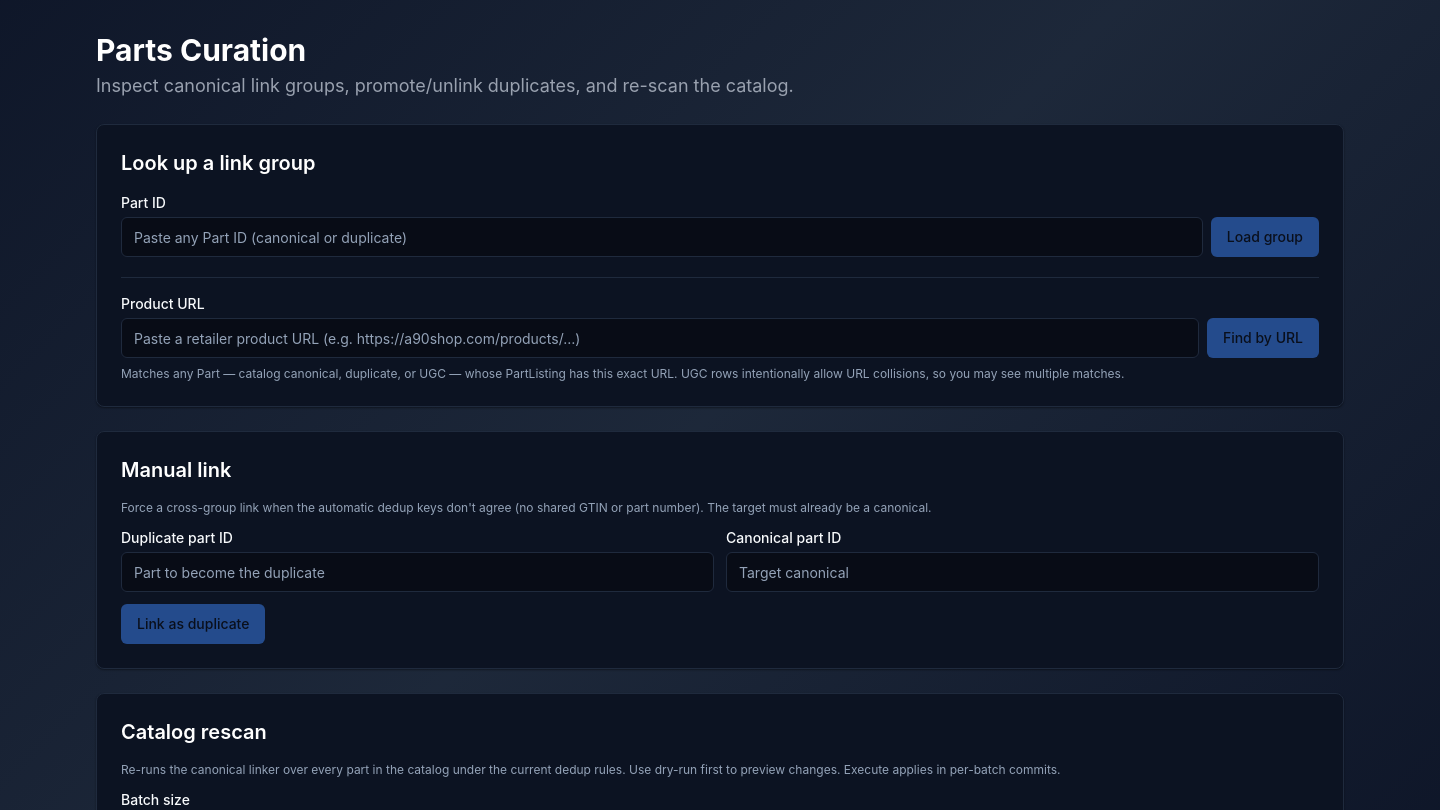
Scenario: PartsCuration page › loads a link group on lookup and renders members with Promote + Unlink
Type "aaaaaaaa-aaaa-7aaa-8aaa-aaaaaaaaaaaa" into the field with placeholder "Paste any Part ID (canonical or duplicate)" at coordinates (662, 237), box [121, 217, 1203, 257]
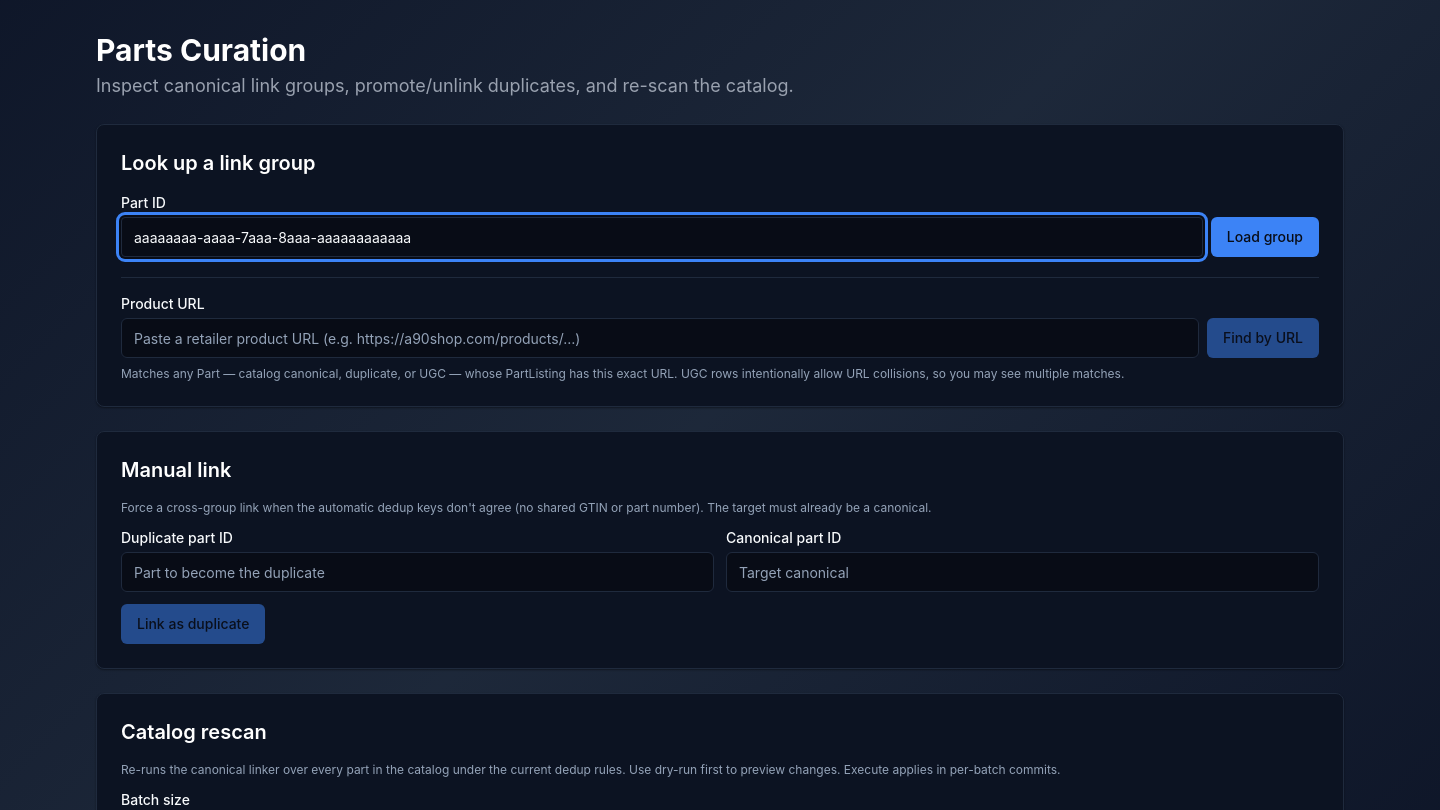
Click the button "Load group" at coordinates (1265, 237), box [1211, 217, 1319, 257]
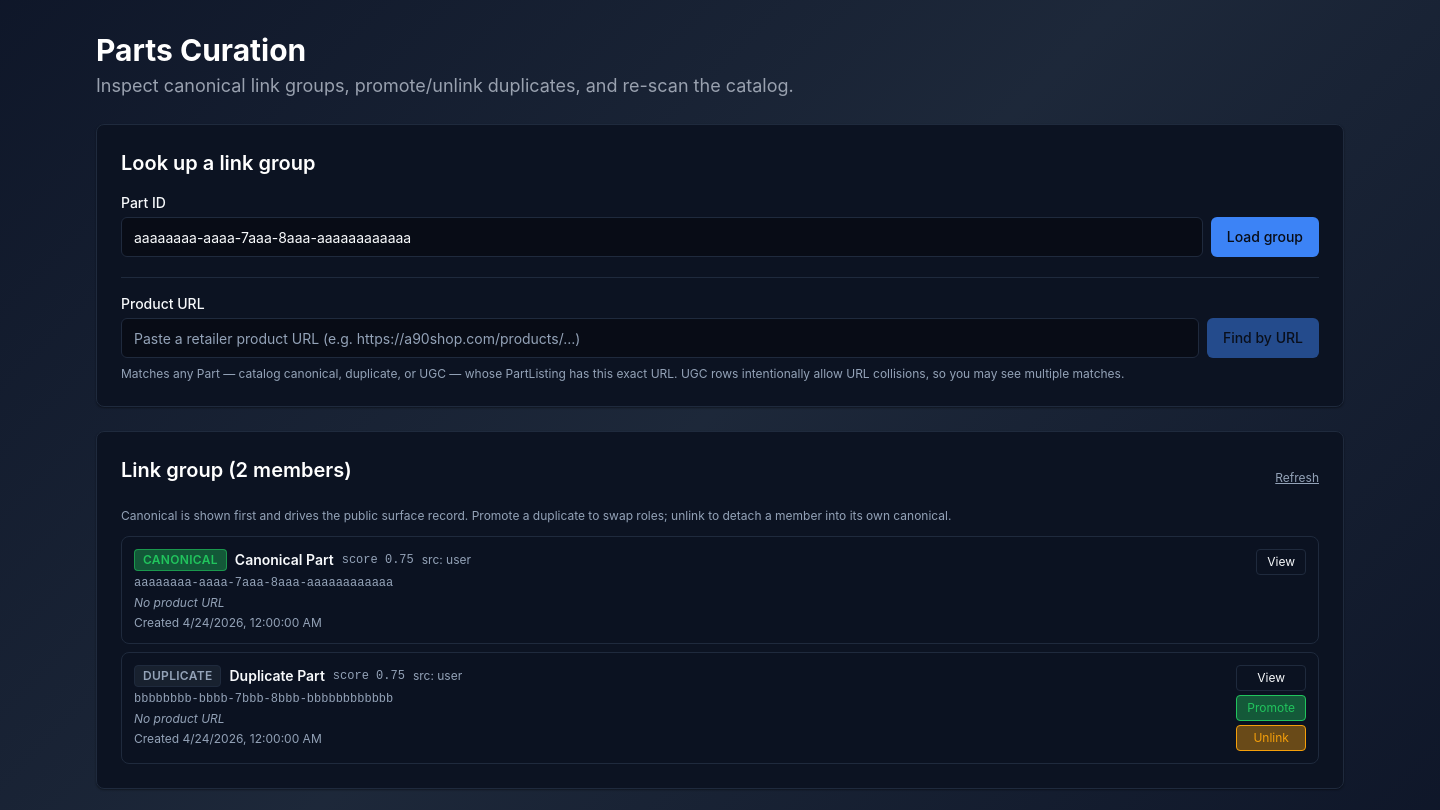
Check: the text "Canonical Part" is shown, box [235, 550, 334, 570]
Check: the text "Duplicate Part" is shown, box [230, 666, 325, 686]
Check: the button "Promote" is shown, box [1236, 695, 1306, 721]
